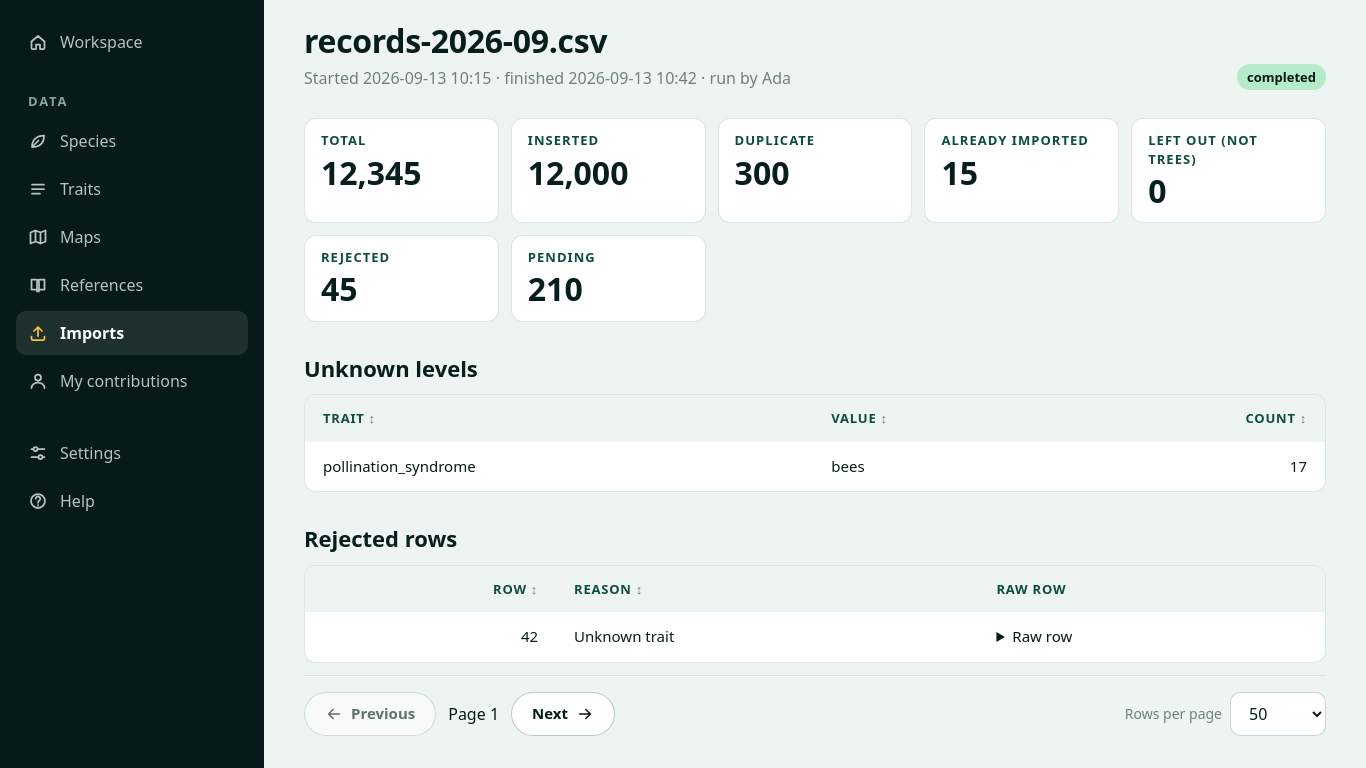
Test: RFC-13 R2, RFC-64 R11 ImportPage › steps through the rejected rows page by page with the cursor
The width and height of the screenshot is (1366, 768).
(page scrolled)
Expected: the heading "records-2026-09.csv" is shown, x1=304 y1=19 x2=607 y2=62
Expected: the text "Unknown trait" is shown, x1=556 y1=612 x2=978 y2=662
Click the button "Next" at {"x": 563, "y": 714}, box x1=511 y1=692 x2=615 y2=736
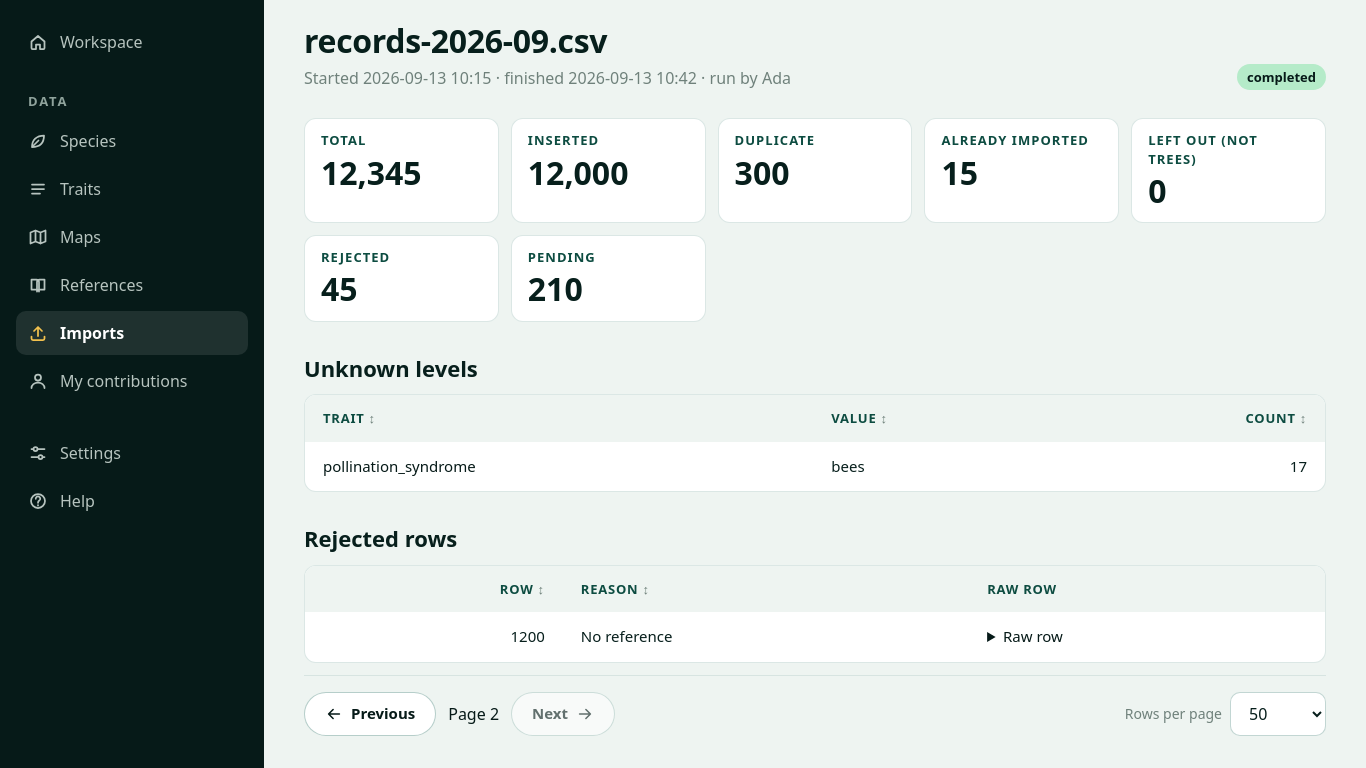
Expected: the text "No reference" is shown, x1=563 y1=612 x2=969 y2=662
Expected: the text "Unknown trait" is gone
Expected: the text "Page 2" is shown, x1=448 y1=702 x2=499 y2=726
Click the button "Previous" at {"x": 370, "y": 714}, box x1=304 y1=692 x2=436 y2=736
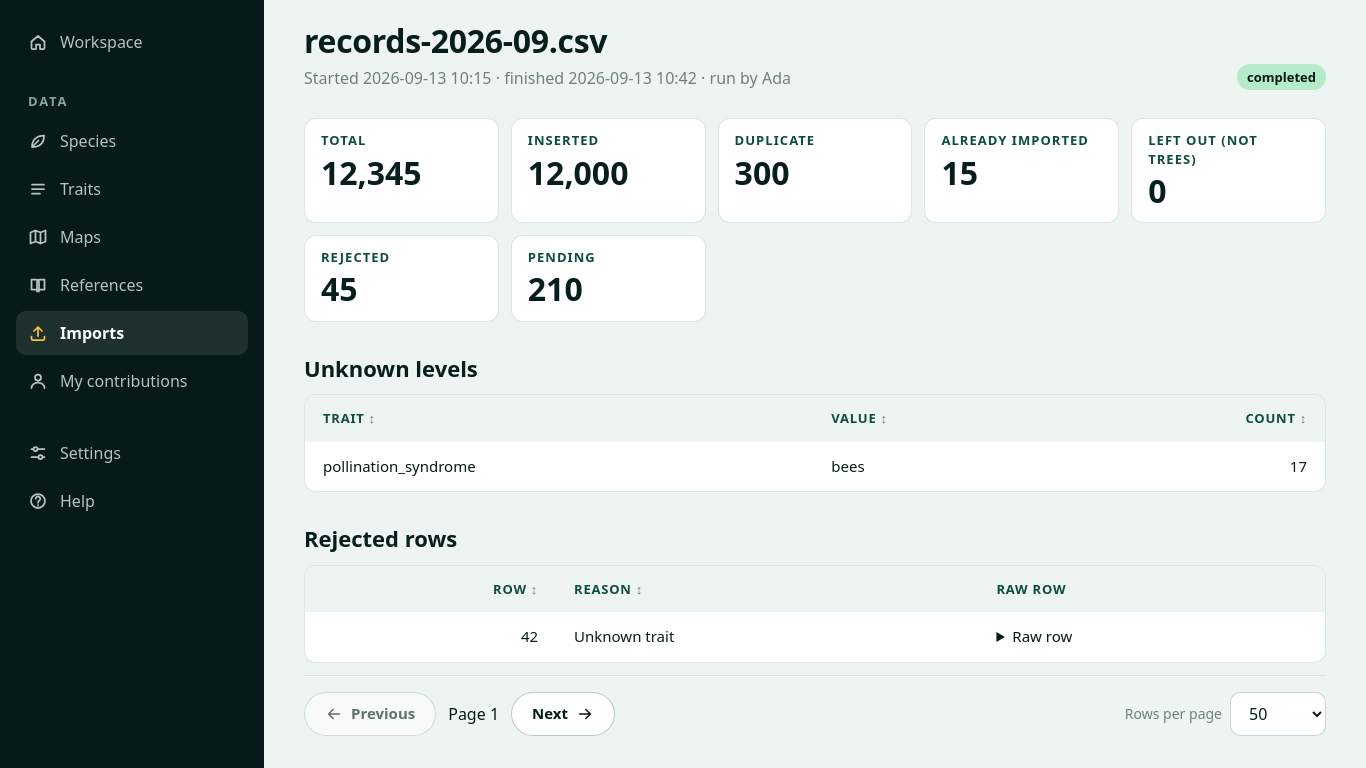
Expected: the text "Unknown trait" is shown, x1=556 y1=612 x2=978 y2=662
Expected: the text "Page 1" is shown, x1=448 y1=702 x2=499 y2=726
